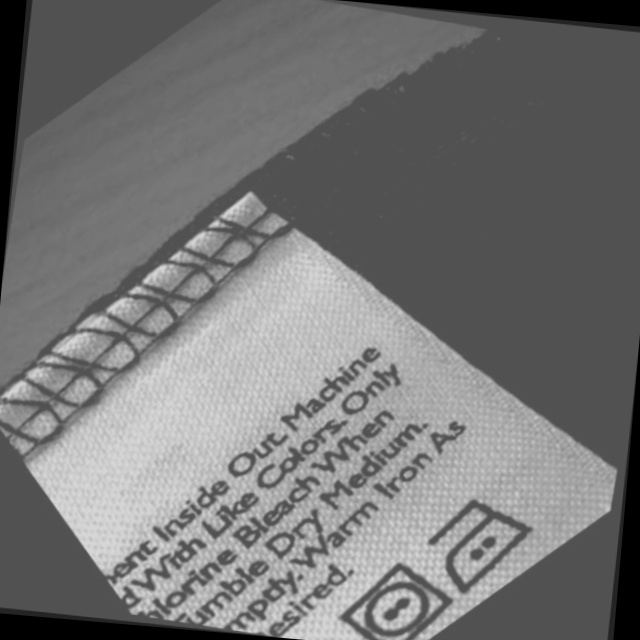iron_medium: (422, 492, 543, 601)
tumble_dry_medium: (338, 556, 461, 640)
